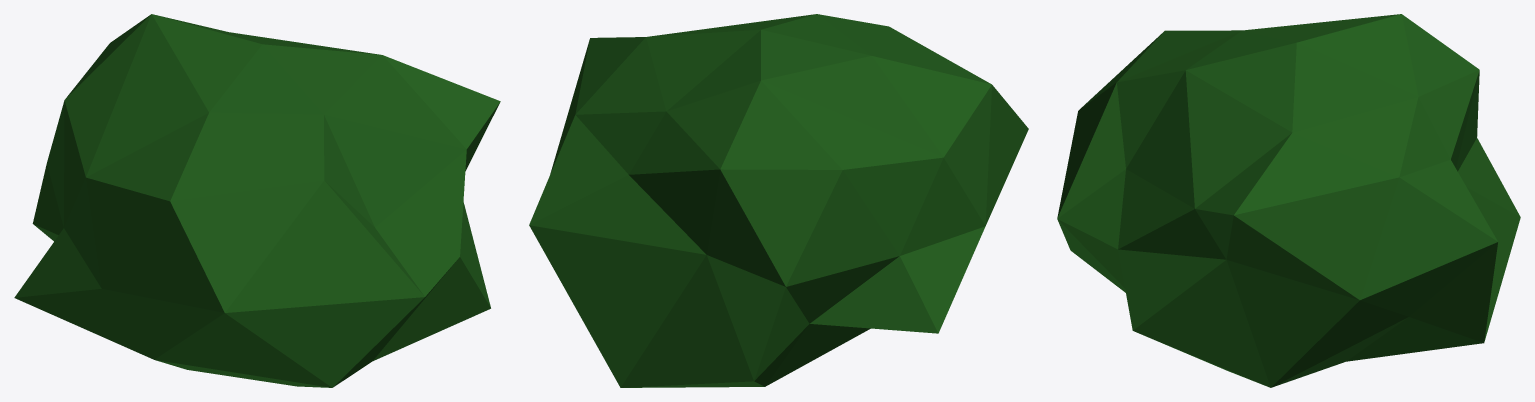
Rendered from bush2.glb.
3 renders of one model, left to right at view 1: azimuth 30°, elevation 25°; view 2: azimuth 150°, elevation 25°; view 3: azimuth 270°, elevation 25°, orthographic. The views are drawn at different scales.
Parts seen in each view (by area): view 1: bush2; view 2: bush2; view 3: bush2.
Boxes of the visible parts, x1,y1,x2,y2 form: bush2: (14,14,500,387); bush2: (529,14,1028,387); bush2: (1057,14,1520,387).
Size of the model in its own units: 1.29 by 0.9852 by 1.31.
